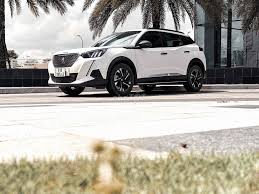Bien-so: (54, 68, 65, 78)
